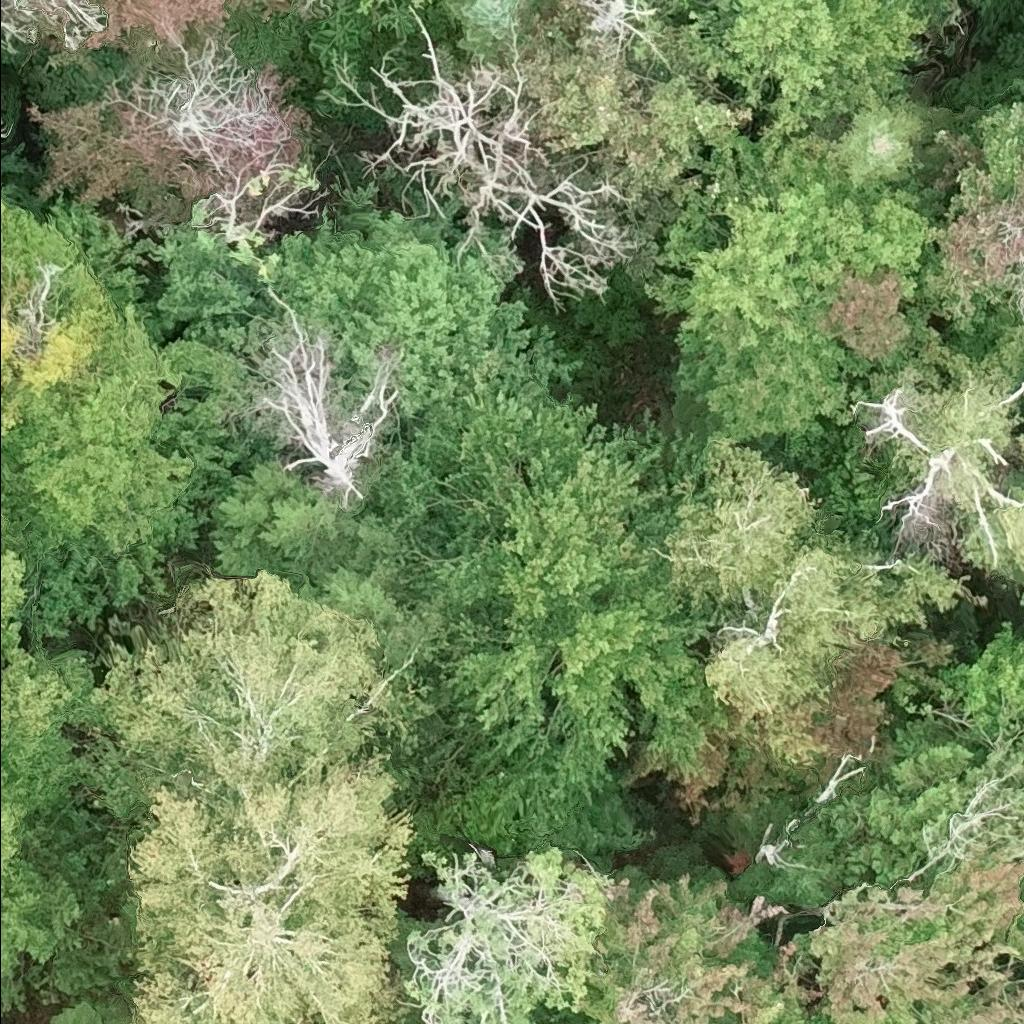crown: (371, 373, 725, 867), (658, 425, 987, 765), (328, 2, 650, 313), (0, 297, 251, 645), (642, 167, 944, 456), (64, 568, 435, 791), (123, 746, 417, 1023), (268, 181, 585, 427), (206, 452, 449, 682), (656, 0, 952, 166), (788, 837, 1023, 1023), (574, 865, 829, 1023), (522, 0, 729, 194), (247, 270, 405, 512), (0, 506, 92, 814), (925, 98, 1023, 329), (98, 30, 276, 155), (301, 0, 439, 108), (827, 85, 945, 191), (571, 0, 673, 73), (439, 0, 550, 61), (0, 0, 105, 54), (47, 995, 128, 1023), (0, 787, 22, 874), (1021, 592, 1023, 603)
